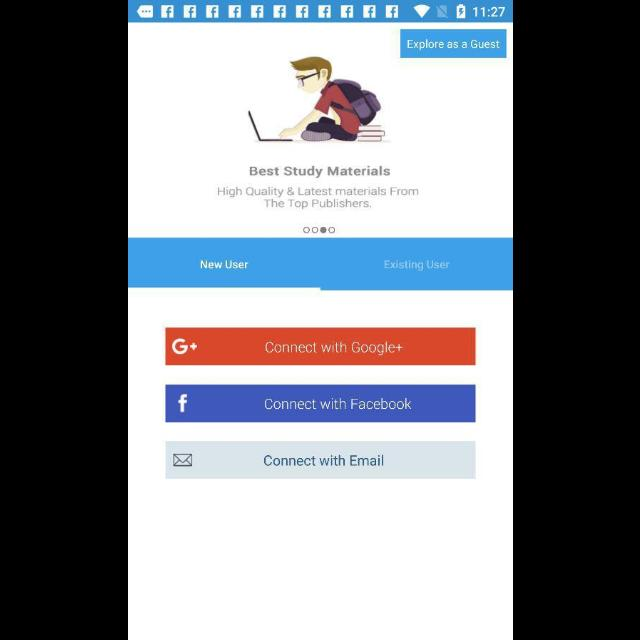image: (248, 56, 390, 144)
multitab: (128, 239, 512, 291)
pageindicator: (302, 228, 334, 235)
text: (218, 186, 418, 210), (250, 166, 390, 178), (383, 260, 449, 272), (200, 260, 248, 270)
textbutton: (165, 328, 475, 366), (165, 384, 475, 422), (165, 442, 475, 478), (400, 30, 506, 59)
uppertaskbar: (128, 1, 512, 23)
